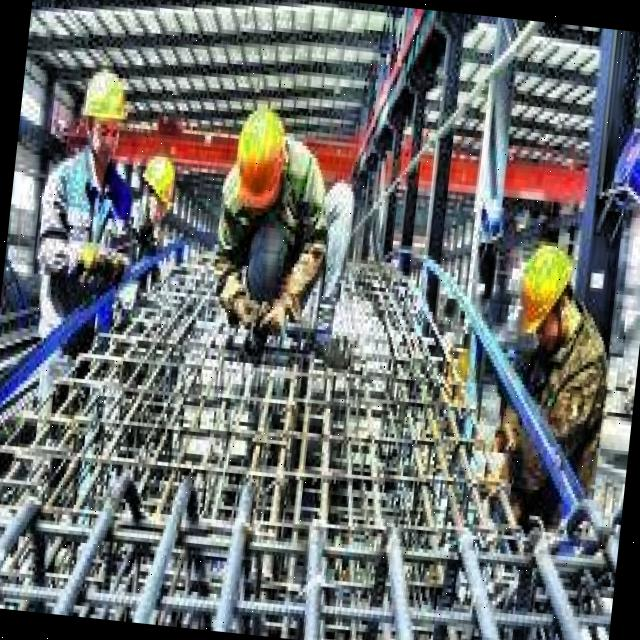helmet: (508, 235, 586, 356), (223, 98, 296, 222), (74, 59, 132, 167), (132, 142, 182, 235)
